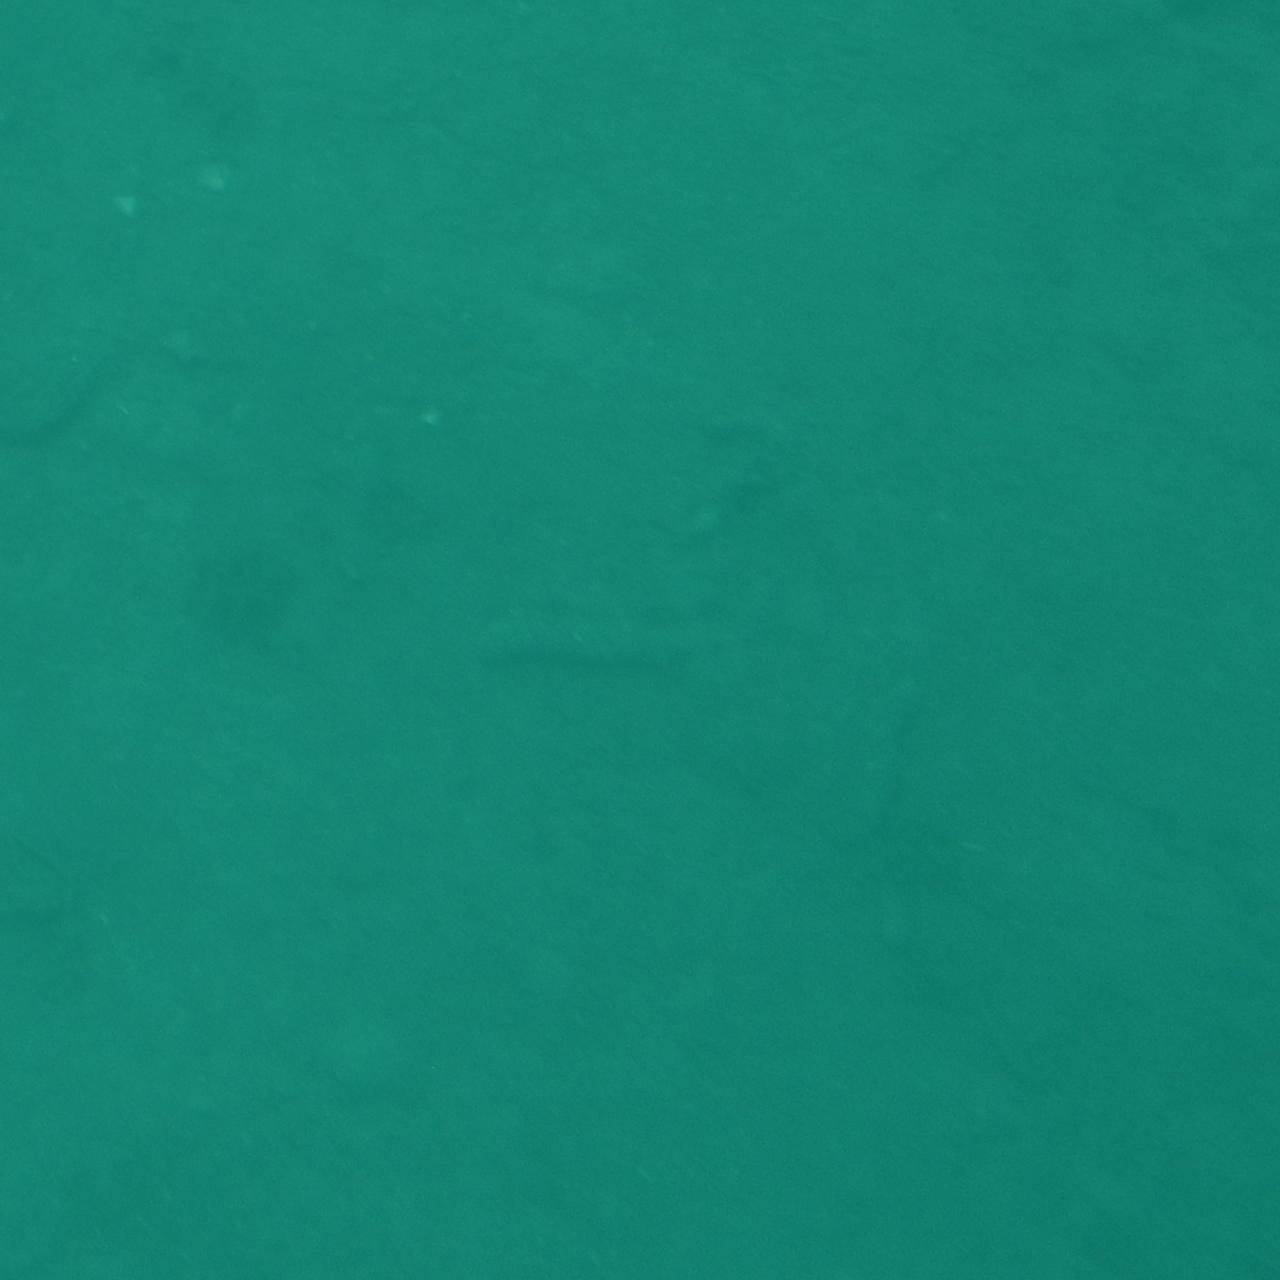Holothuria tubulosa: (458, 600, 822, 680)
